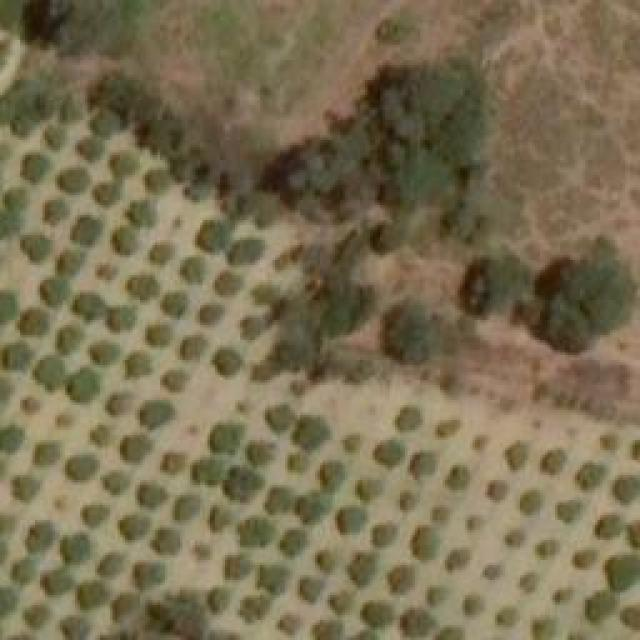Tree: (533, 243, 633, 358), (369, 55, 469, 137), (274, 138, 354, 210), (383, 135, 455, 204), (28, 0, 101, 55), (463, 250, 526, 313), (94, 68, 162, 126), (380, 302, 438, 360), (150, 590, 208, 640), (235, 515, 273, 548), (225, 468, 263, 501), (373, 218, 407, 252), (293, 415, 328, 448), (295, 493, 333, 523), (375, 13, 411, 43), (608, 555, 638, 590), (410, 525, 440, 560), (400, 608, 435, 638), (345, 553, 375, 586), (208, 423, 241, 453), (225, 238, 260, 263), (265, 487, 295, 515), (575, 462, 605, 490), (35, 358, 63, 388), (335, 508, 368, 533), (360, 600, 393, 625), (258, 565, 291, 590), (193, 458, 226, 483), (280, 530, 308, 558), (387, 565, 415, 593), (612, 475, 640, 503), (67, 370, 95, 398), (245, 440, 278, 463), (375, 440, 405, 465), (198, 223, 228, 248), (120, 435, 150, 460), (68, 455, 98, 480), (238, 315, 264, 342), (410, 450, 438, 475), (265, 405, 293, 430), (215, 270, 243, 295), (72, 293, 100, 318), (40, 280, 68, 305), (152, 528, 180, 553), (28, 522, 53, 550), (65, 535, 90, 563), (135, 563, 163, 588), (110, 595, 138, 620), (77, 583, 105, 608), (92, 110, 120, 135), (22, 153, 50, 178), (20, 235, 48, 260), (70, 218, 100, 241), (3, 345, 33, 368), (313, 620, 346, 640), (478, 560, 508, 582), (587, 595, 615, 618), (355, 478, 383, 501), (297, 578, 325, 601), (162, 293, 190, 316), (130, 275, 158, 298), (17, 310, 45, 333), (120, 515, 148, 538), (12, 475, 40, 498), (320, 463, 345, 488), (225, 553, 250, 578), (0, 428, 25, 453), (43, 570, 73, 590), (445, 465, 470, 488), (330, 590, 355, 613), (208, 588, 233, 611), (555, 500, 580, 523), (398, 408, 423, 431), (145, 403, 170, 426), (140, 483, 165, 506), (13, 558, 36, 583), (113, 153, 138, 176), (45, 198, 68, 223), (240, 598, 268, 618), (107, 308, 135, 328), (145, 325, 173, 345), (598, 515, 621, 538), (373, 523, 396, 546), (218, 350, 241, 373), (58, 328, 81, 351), (130, 203, 153, 226), (35, 443, 58, 466), (148, 170, 171, 193), (57, 255, 85, 273), (77, 140, 105, 158), (57, 170, 85, 188), (445, 550, 470, 570), (115, 228, 135, 253), (103, 473, 128, 493), (175, 498, 200, 518), (210, 505, 230, 530), (98, 555, 123, 575), (63, 618, 88, 638), (3, 190, 28, 210), (533, 618, 556, 638), (318, 550, 338, 573), (520, 493, 540, 516), (543, 450, 563, 473), (183, 338, 206, 358), (128, 353, 151, 373), (93, 425, 113, 448), (25, 605, 48, 625), (45, 125, 65, 148), (13, 115, 36, 135), (495, 607, 520, 625), (93, 342, 118, 360), (185, 255, 203, 280), (83, 505, 108, 523), (93, 185, 118, 203), (0, 293, 15, 323), (535, 540, 558, 558), (278, 615, 301, 633), (438, 417, 461, 435), (200, 305, 223, 323), (165, 370, 188, 388), (0, 3, 18, 26), (485, 480, 505, 500), (428, 585, 448, 605), (622, 608, 640, 628), (518, 572, 538, 590), (575, 550, 595, 568), (463, 597, 483, 615), (343, 432, 363, 450), (150, 245, 170, 263), (0, 215, 18, 235), (508, 445, 523, 468), (400, 490, 418, 508), (553, 588, 573, 603), (290, 453, 310, 468), (20, 398, 40, 413), (163, 453, 183, 468), (0, 590, 15, 610), (505, 530, 523, 545), (600, 432, 615, 450), (192, 543, 210, 558), (468, 515, 483, 530), (433, 508, 448, 523), (473, 435, 488, 450), (110, 395, 125, 410)
